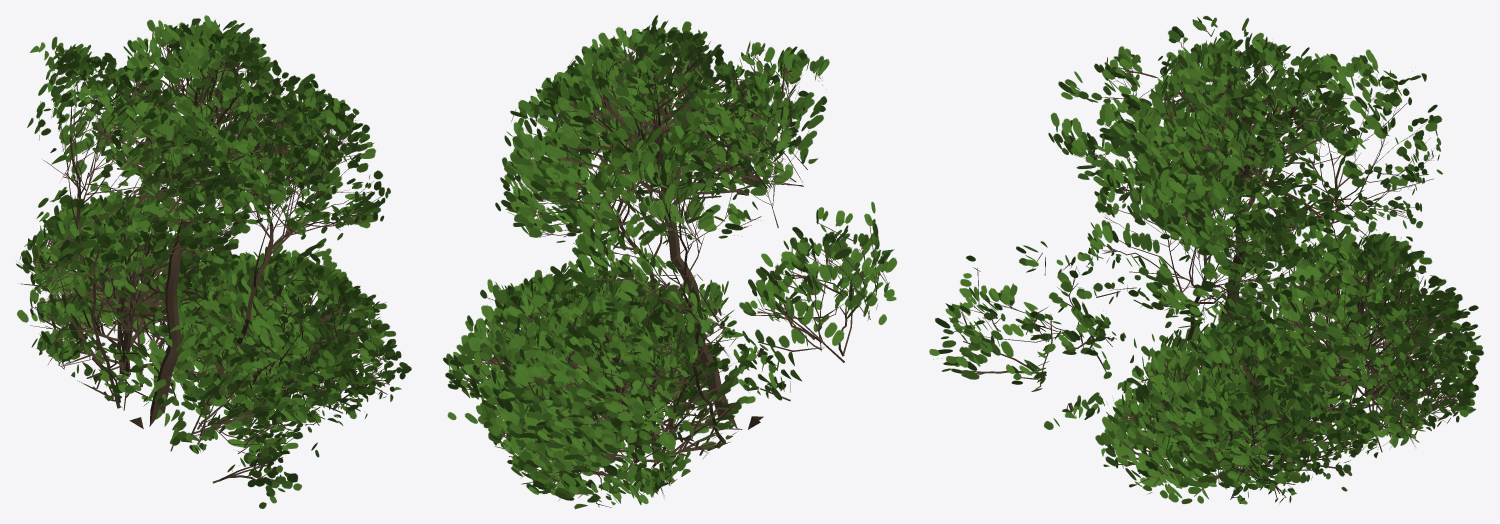
The picture shows the model from 3 angles, left to right: view 1: azimuth 30°, elevation 25°; view 2: azimuth 150°, elevation 25°; view 3: azimuth 270°, elevation 25°; orthographic projection. The views are drawn at different scales.
Parts seen in each view (by area): view 1: oak 01.001_trunk_Mat.001_0.370; view 2: oak 01.001_trunk_Mat.001_0.370; view 3: oak 01.001_trunk_Mat.001_0.370.
Part boxes in pixels (left/top/right/bottom): oak 01.001_trunk_Mat.001_0.370: left=16, top=15, right=411, bottom=508; oak 01.001_trunk_Mat.001_0.370: left=443, top=15, right=897, bottom=509; oak 01.001_trunk_Mat.001_0.370: left=929, top=16, right=1483, bottom=504.
Bounding box in the file's own units: 3.43 × 4.54 × 5.59.
2 materials, 1 textured.
